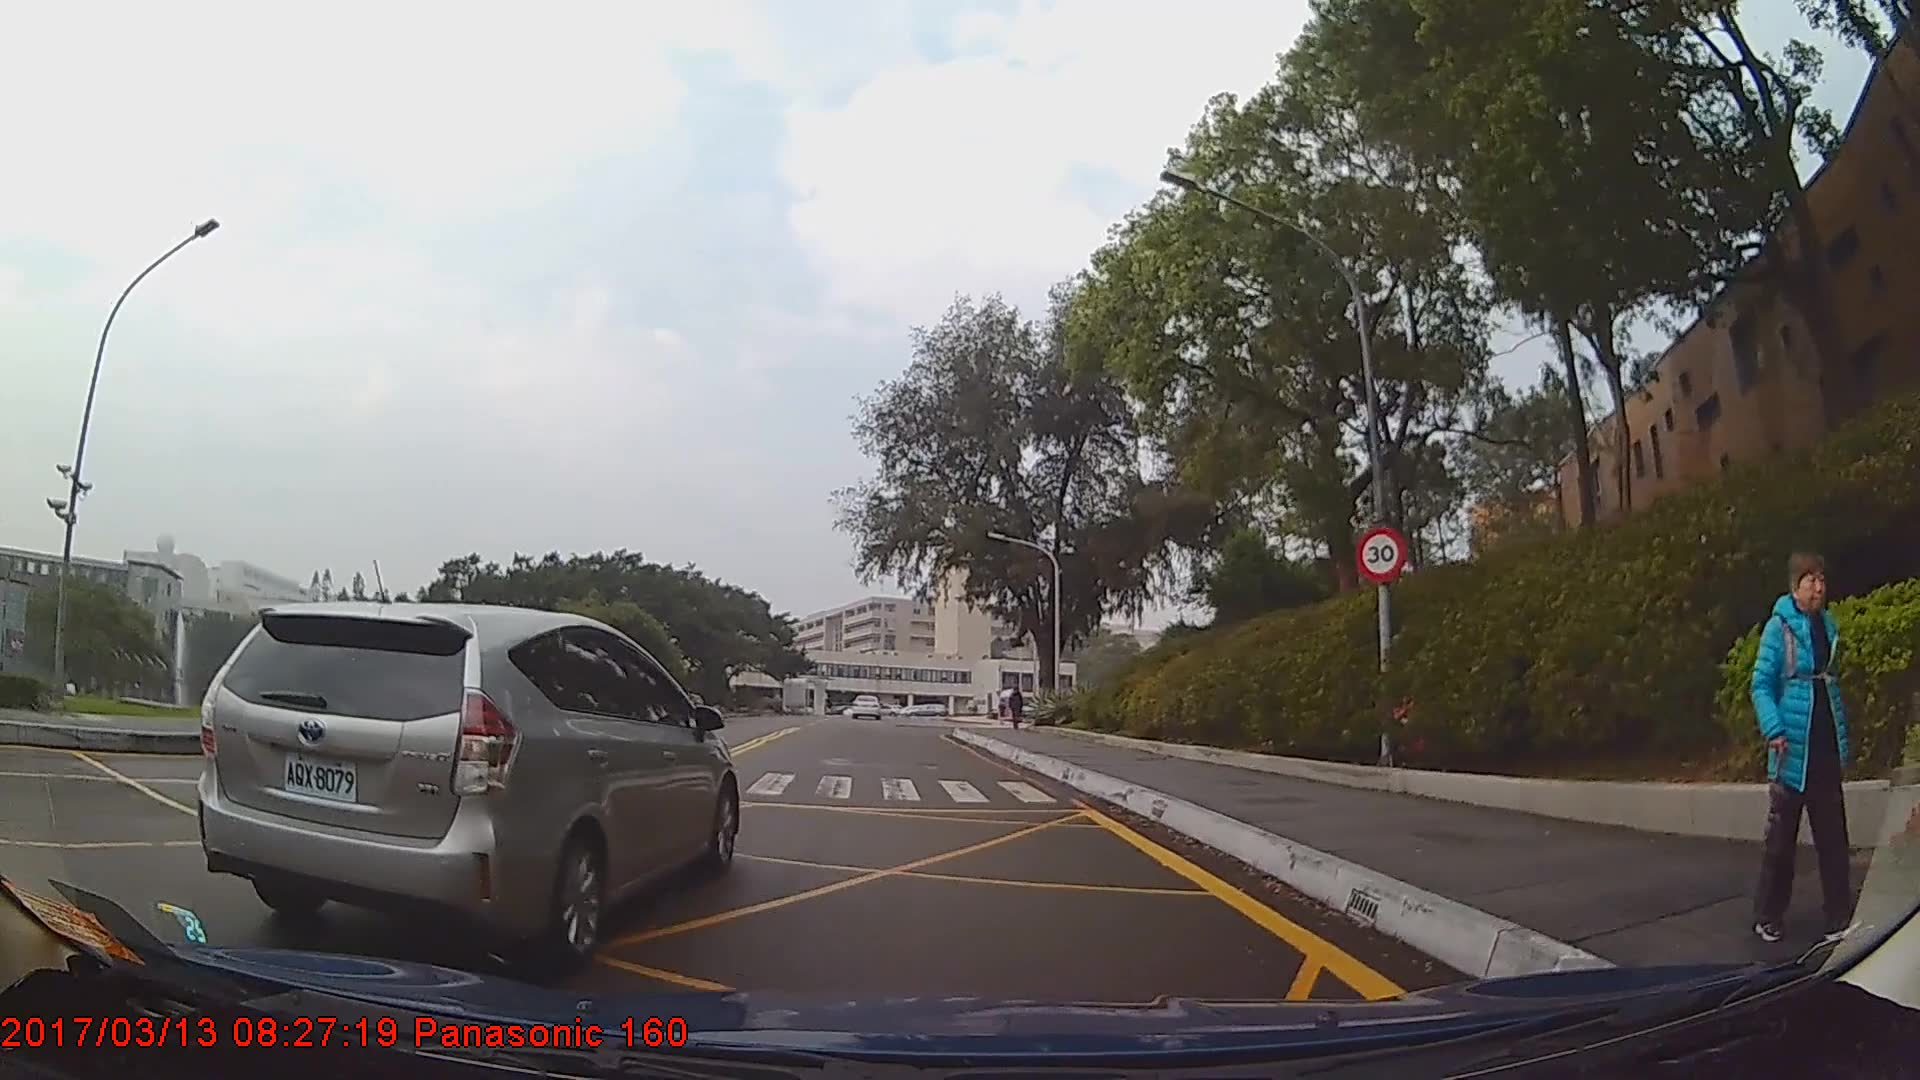pedestrian: (1745, 546, 1858, 941), (1008, 689, 1028, 734)
vehicle: (197, 599, 740, 969), (851, 692, 881, 719)
